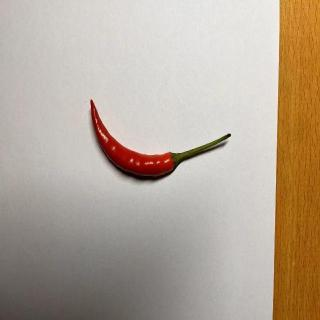Cabai Merah: (90, 100, 232, 178)
